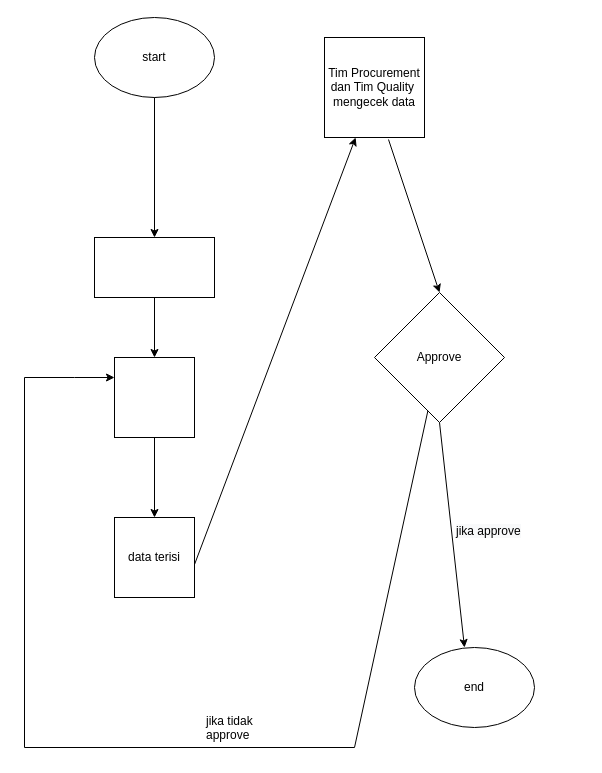
This 602x773 diagram has some shape labels left out. Each missing label, with the centre of its shape:
mengisi Form PCN: pixel 154 397
User masukkan Login: pixel 154 267
